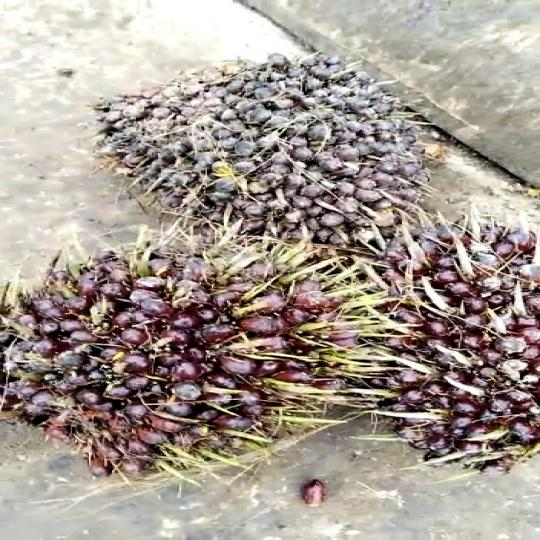kurang masak: (0, 213, 414, 487), (96, 66, 475, 276), (358, 185, 540, 478)
